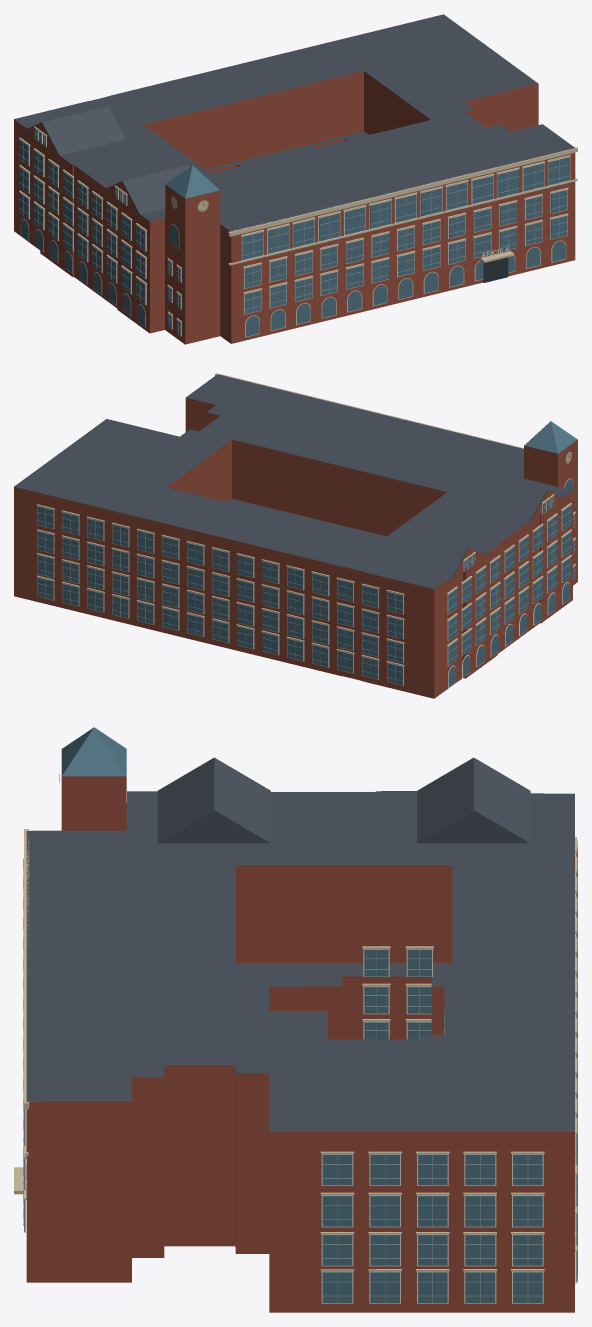
File: studiok.glb
3 views of the same model, one above another, from view 1: azimuth 30°, elevation 25°; view 2: azimuth 150°, elevation 25°; view 3: azimuth 270°, elevation 25° (orthographic). The views are drawn at different scales.
Parts seen in each view (by area): view 1: studiok; view 2: studiok; view 3: studiok.
Boxes of the visible parts, left/top/right/bottom form: studiok: left=14, top=14, right=577, bottom=344; studiok: left=14, top=373, right=577, bottom=698; studiok: left=14, top=727, right=577, bottom=1312.
Size of the model in its own units: 75.27 by 27.61 by 52.16.
